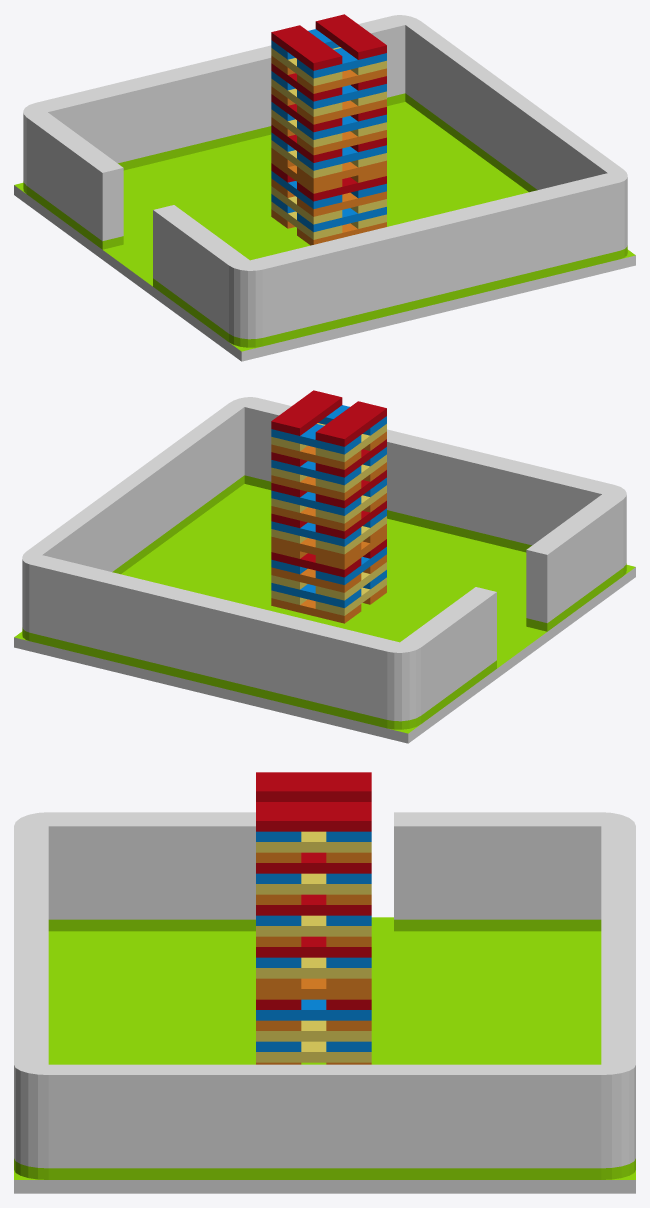
Rendered from Servicios.dae.
The picture shows the model from 3 angles, top to bottom: view 1: azimuth 30°, elevation 25°; view 2: azimuth 150°, elevation 25°; view 3: azimuth 270°, elevation 25°; orthographic projection. The views are drawn at different scales.
Visible parts, largest first — view 1: Cube.001, Cube, Cube.041, Cube.038, Cube.037, Cube.027, Cube.049, Cube.008, Cube.031, Cube.018, Cube.012, Cube.042 (+14 smaller); view 2: Cube.001, Cube, Cube.041, Cube.038, Cube.012, Cube.018, Cube.003, Cube.049, Cube.042, Cube.031, Cube.027, Cube.014 (+14 smaller); view 3: Cube.001, Cube, Cube.041, Cube.046, Cube.045, Cube.034, Cube.033, Cube.029, Cube.022, Cube.021, Cube.017, Cube.010 (+13 smaller).
Part boxes in pixels (x1,y1,x2,y2): Cube.001: [23, 15, 627, 347]; Cube: [14, 102, 635, 361]; Cube.041: [271, 14, 386, 70]; Cube.038: [271, 29, 386, 78]; Cube.037: [271, 163, 386, 201]; Cube.027: [271, 132, 386, 170]; Cube.049: [271, 71, 386, 109]; Cube.008: [271, 194, 386, 232]; Cube.031: [271, 148, 386, 185]; Cube.018: [271, 102, 386, 139]; Cube.012: [271, 178, 386, 216]; Cube.042: [271, 55, 386, 93]; Cube.001: [22, 397, 626, 729]; Cube: [14, 484, 635, 743]; Cube.041: [271, 390, 386, 446]; Cube.038: [271, 405, 386, 454]; Cube.012: [271, 554, 386, 592]; Cube.018: [271, 477, 386, 515]; Cube.003: [271, 585, 386, 623]; Cube.049: [271, 447, 386, 485]; Cube.042: [271, 431, 386, 469]; Cube.031: [271, 524, 386, 561]; Cube.027: [271, 508, 386, 546]; Cube.014: [271, 462, 386, 500]; Cube.001: [14, 812, 635, 1179]; Cube: [14, 917, 635, 1193]; Cube.041: [256, 772, 371, 831]; Cube.046: [256, 852, 371, 873]; Cube.045: [256, 831, 371, 852]; Cube.034: [256, 978, 371, 999]; Cube.033: [256, 957, 371, 978]; Cube.029: [256, 936, 371, 957]; Cube.022: [256, 915, 371, 936]; Cube.021: [256, 894, 371, 915]; Cube.017: [256, 873, 371, 894]; Cube.010: [256, 999, 371, 1020].
Size of the model in its own units: 10.74 by 10.74 by 5.06.
